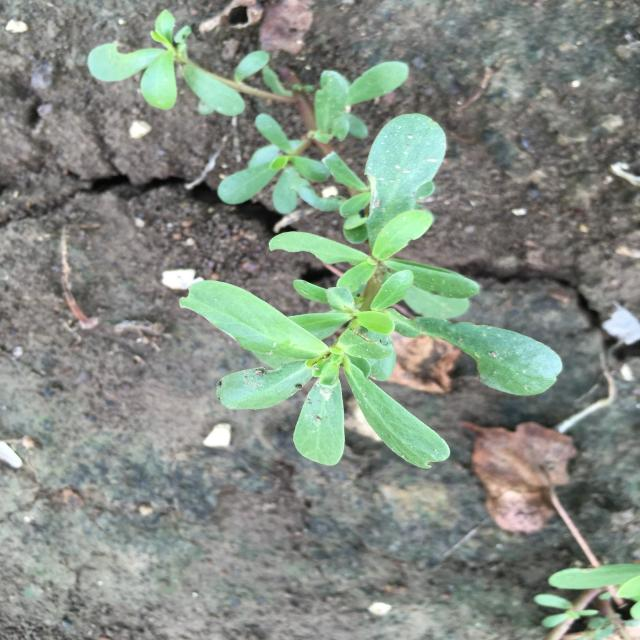Purslane: (88, 9, 564, 470)
